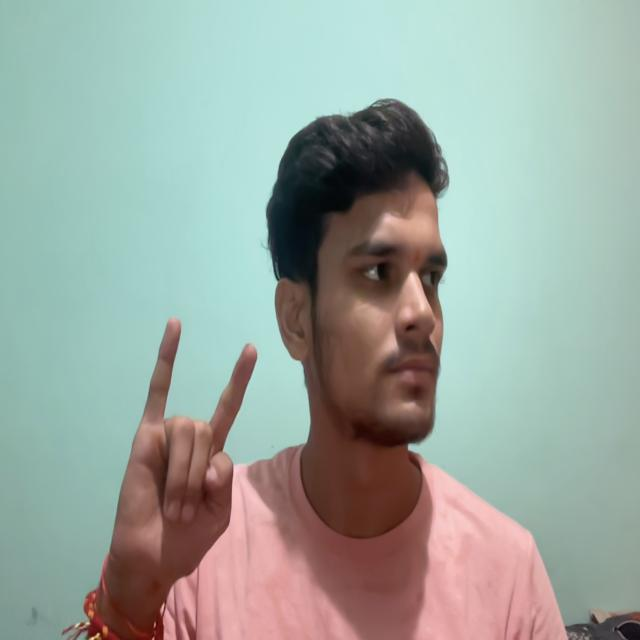iloveyou: (86, 264, 264, 606)
